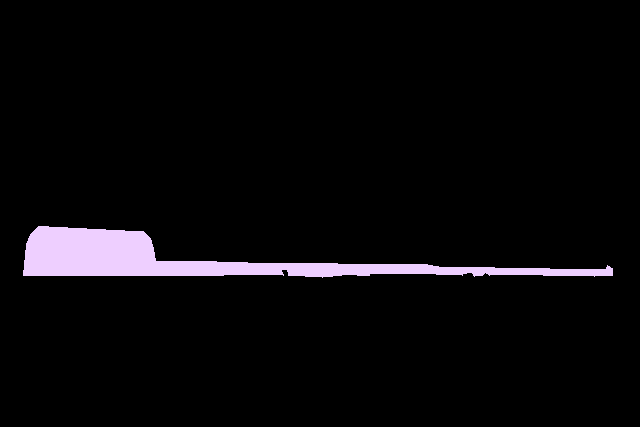Train: (23, 226, 613, 277)
